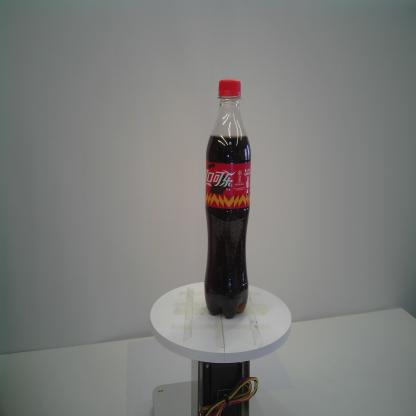Drink: (202, 76, 253, 318)
